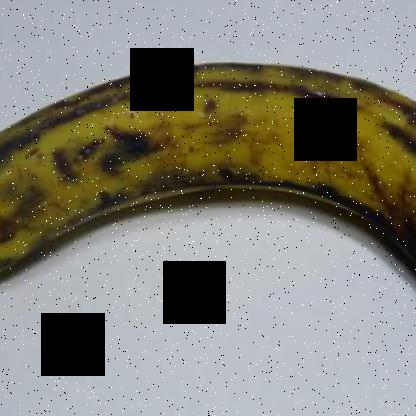overripe: (1, 49, 415, 332)
